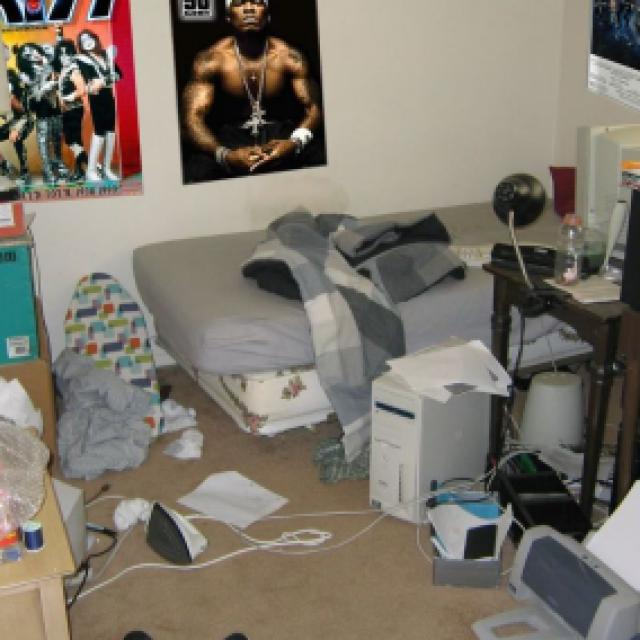mess: (327, 360, 640, 640), (412, 164, 640, 408)
